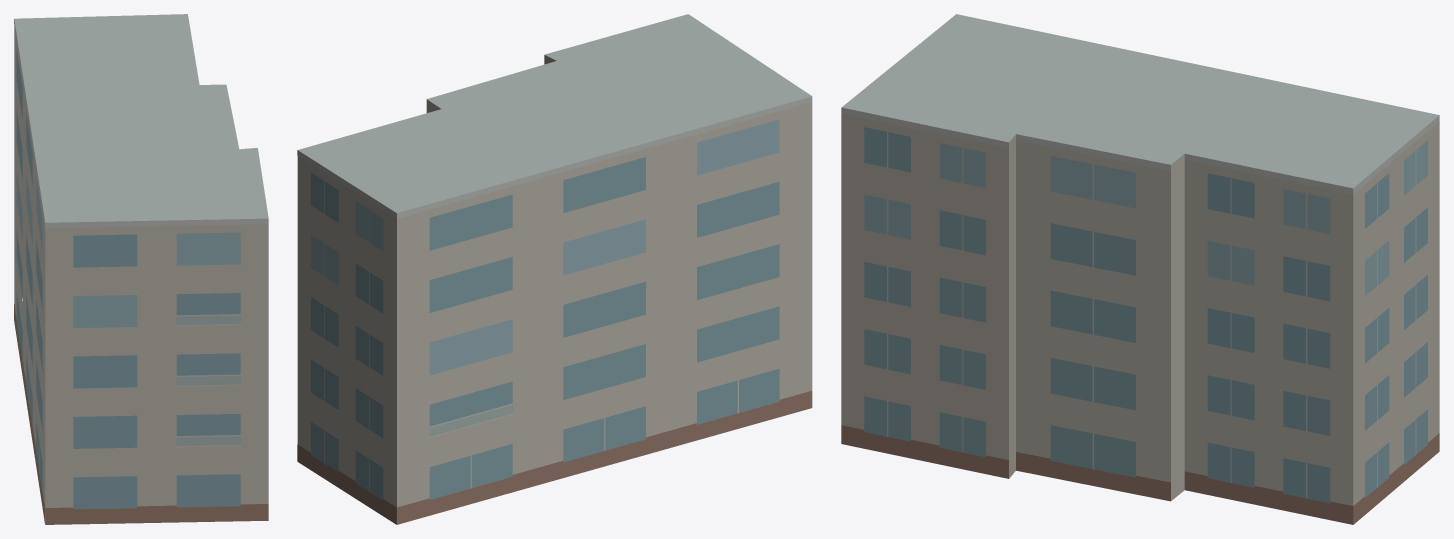
The model's file is survey-upis-32530435.glb.
3 renders of one model, left to right at view 1: azimuth 30°, elevation 25°; view 2: azimuth 150°, elevation 25°; view 3: azimuth 270°, elevation 25°, orthographic. The views are drawn at different scales.
Visible parts, largest first — view 1: survey-upis-32530435.tmp; view 2: survey-upis-32530435.tmp; view 3: survey-upis-32530435.tmp.
Part boxes in pixels (<box>): survey-upis-32530435.tmp: <box>14,14,268,524</box>; survey-upis-32530435.tmp: <box>297,14,812,524</box>; survey-upis-32530435.tmp: <box>841,14,1439,524</box>.
Bounding box in the file's own units: 15.01 × 13.5 × 21.75.
